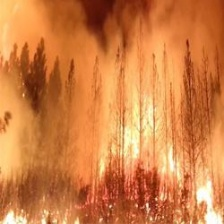fire: (106, 100, 222, 224)
smoke: (1, 15, 88, 160)
